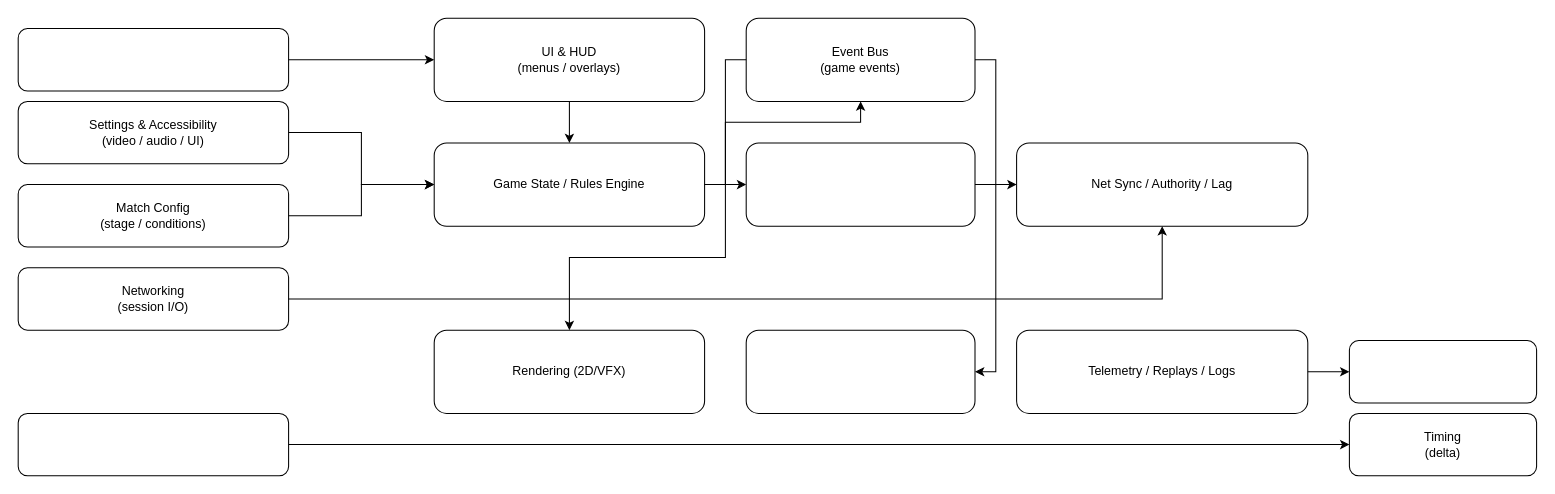
The diagram is 1555 pixels wide and 494 high, and some of its shapes have lost their labels. The centre of each missing label's shape, as x and y in pixels:
"Audio (BGM/SFX)" goes at (x=860, y=371).
"Clock (ticks)" goes at (x=153, y=444).
"Input Layer (devices / mapping)" goes at (x=153, y=59).
"Physics / Collision" goes at (x=860, y=184).
"Storage (opt-in)" goes at (x=1442, y=371).
